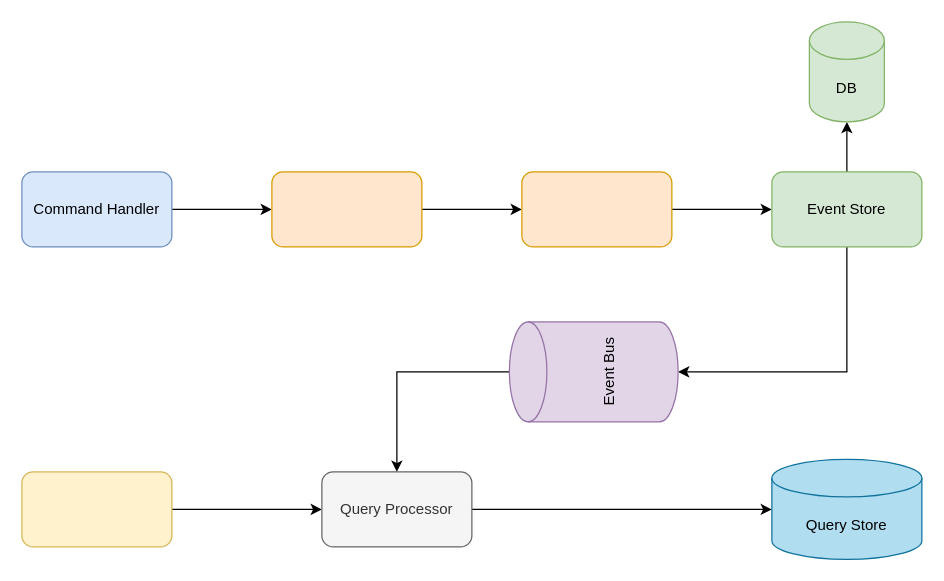
Some shapes in this 944 by 581 pixel diagram are drawn without their labels. The shapes that lost their labels are listed below. From the top down, each one's centre as x and y in pixels, then its label:
point 346,209: Command Processor
point 596,209: Event Processor
point 96,509: Query Handler
